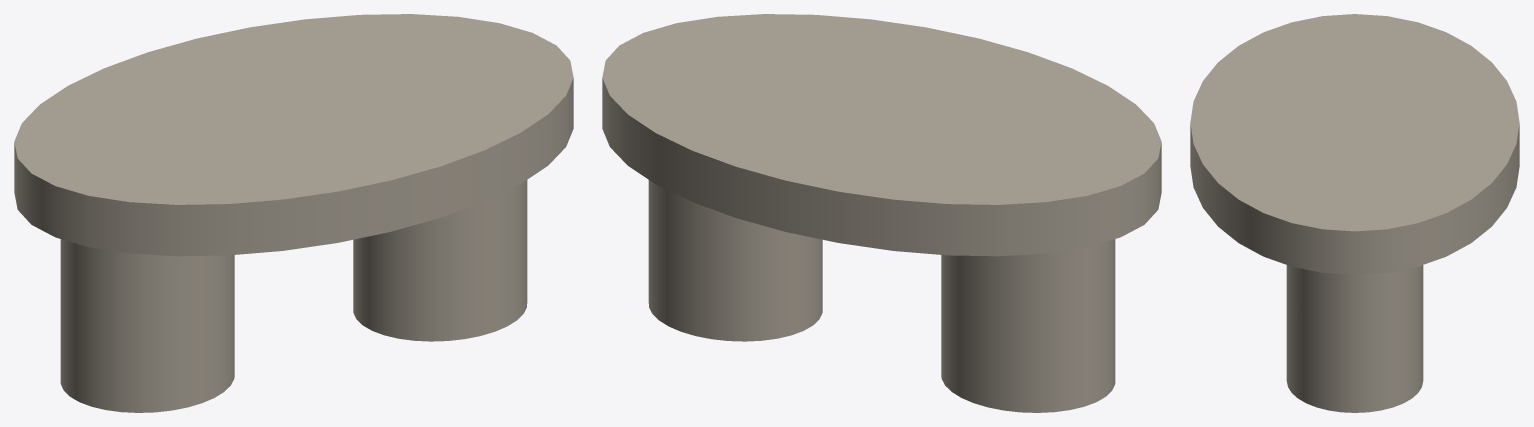
The model's file is batu.glb.
3 renders of one model, left to right at view 1: azimuth 30°, elevation 25°; view 2: azimuth 150°, elevation 25°; view 3: azimuth 270°, elevation 25°, orthographic. The views are drawn at different scales.
Parts seen in each view (by area): view 1: tabletop, support_left, support_right; view 2: tabletop, support_left, support_right; view 3: tabletop, support_right.
Boxes of the visible parts, x1,y1,x2,y2 form: tabletop: [14, 14, 573, 256]; support_left: [60, 239, 234, 412]; support_right: [353, 180, 527, 341]; tabletop: [602, 14, 1161, 256]; support_left: [941, 239, 1115, 412]; support_right: [648, 180, 822, 341]; tabletop: [1190, 14, 1519, 274]; support_right: [1286, 265, 1423, 412].
Bounding box in the file's own units: 1.22 × 0.517 × 0.7808.
